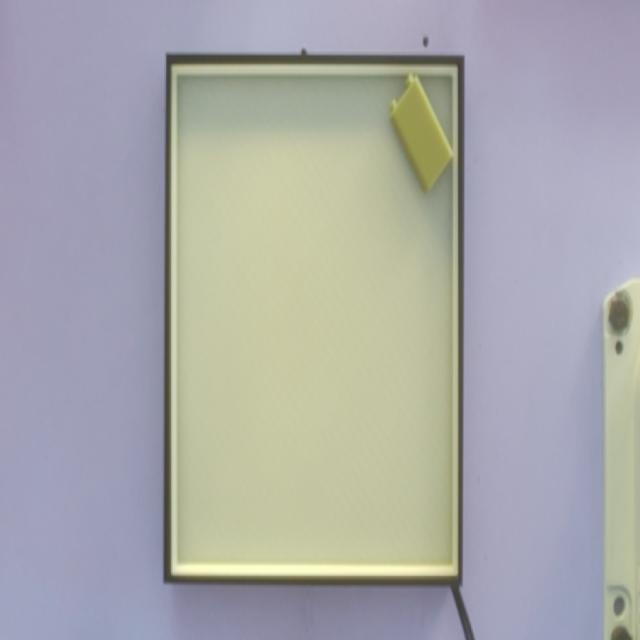bateria: (390, 72, 455, 194)
mesa: (163, 55, 464, 587)
